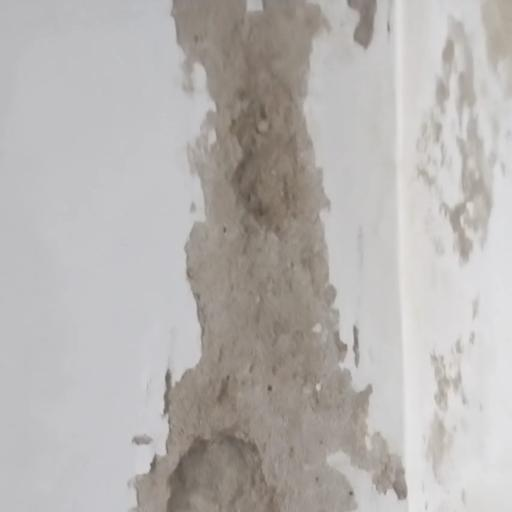spalling: (119, 0, 406, 512)
